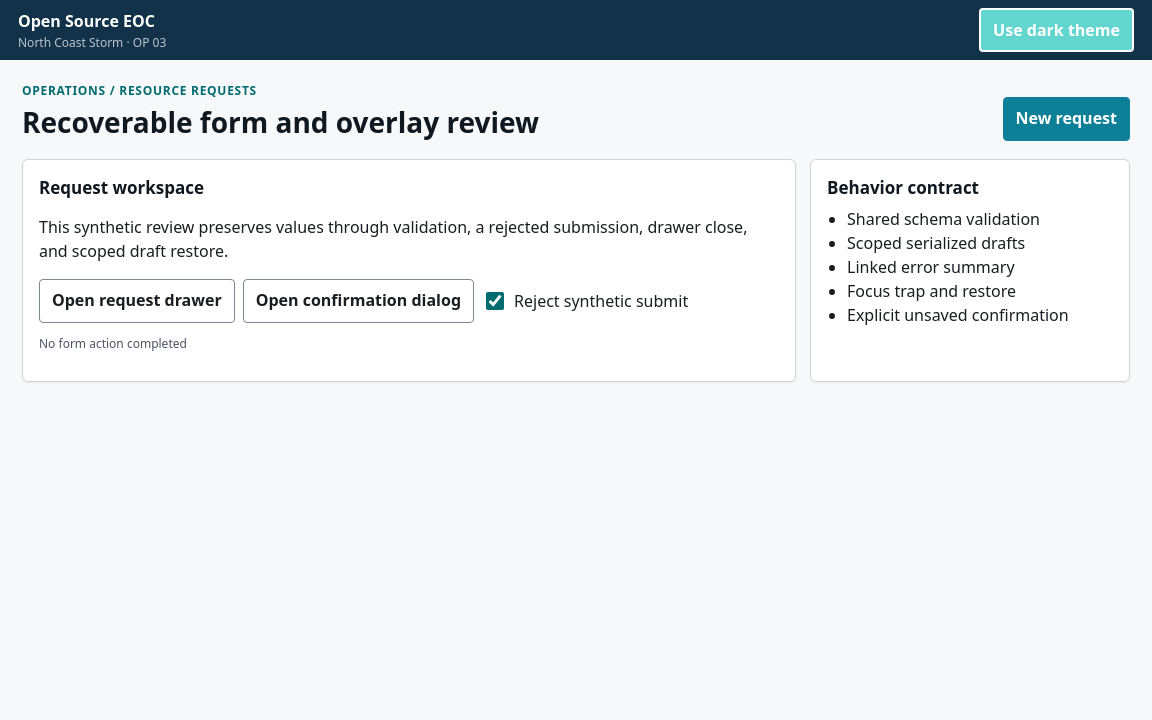
Test case: form and drawer accessibility › uses one modal drawer with labeled grouped fields and no positive tabindex
Click the button "New request" at (1066, 119), box 1003,97 -> 1130,141
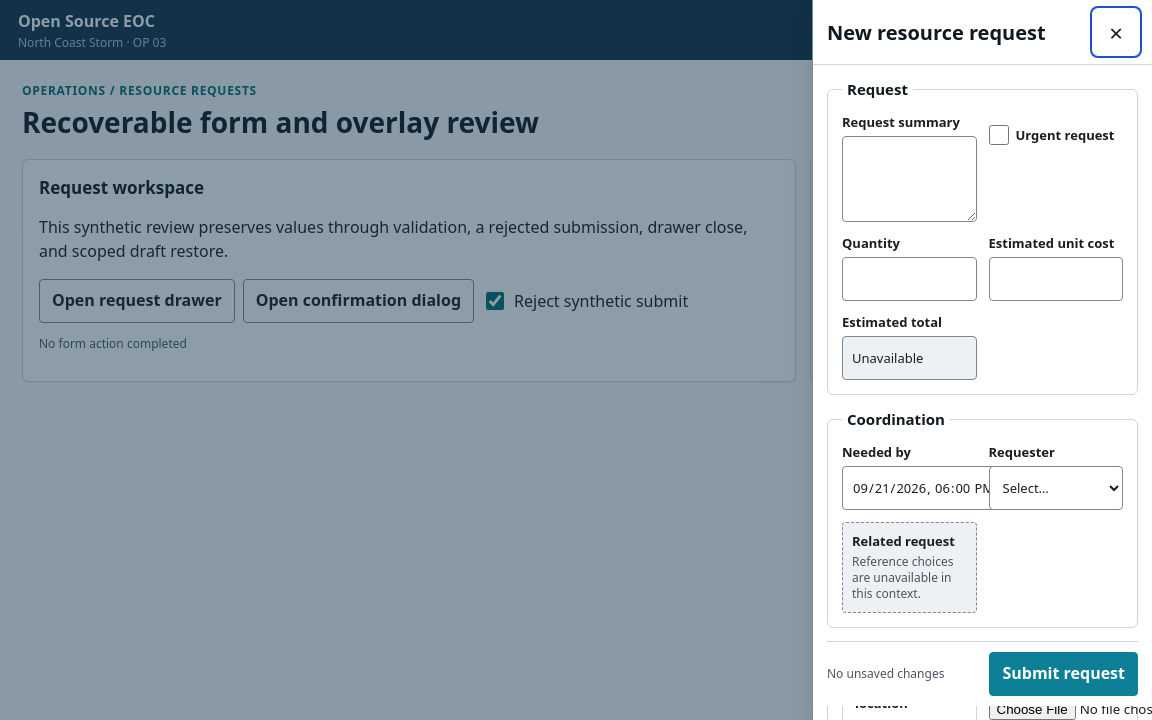
Expected: the dialog "New resource request" is shown, 812,0 -> 1151,719
Expected: the element "Request" is shown, 827,79 -> 1138,395
Expected: the element "Coordination" is shown, 827,409 -> 1138,628
